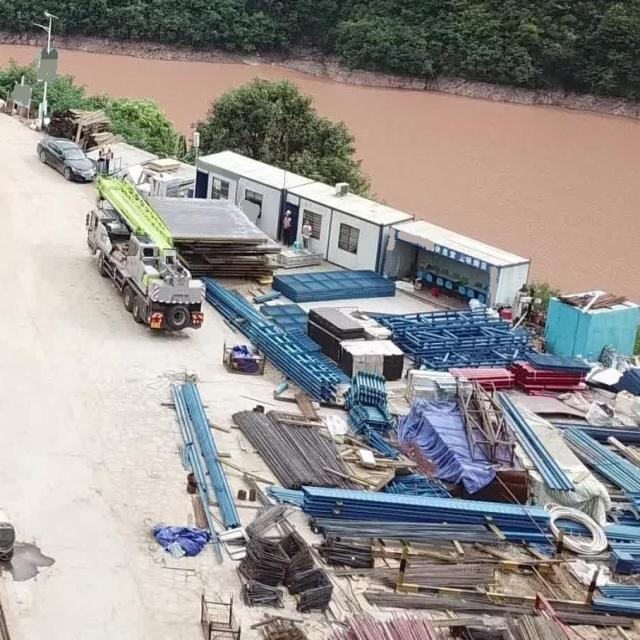crane: (66, 160, 212, 344)
